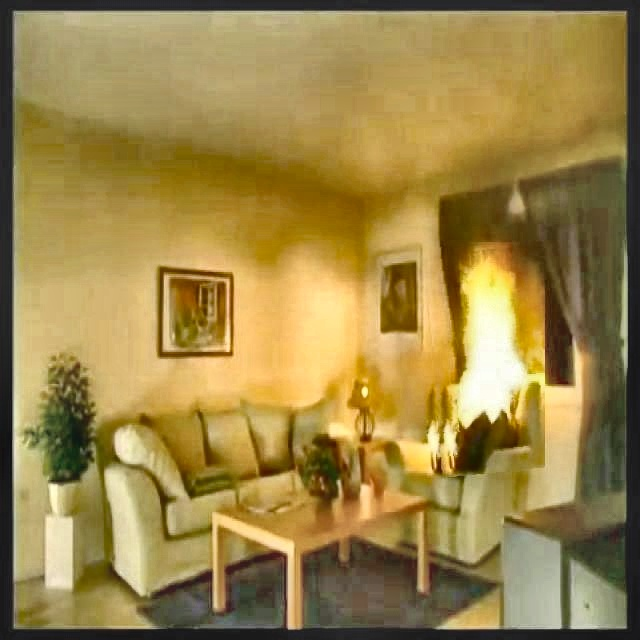fire: (427, 221, 578, 474)
